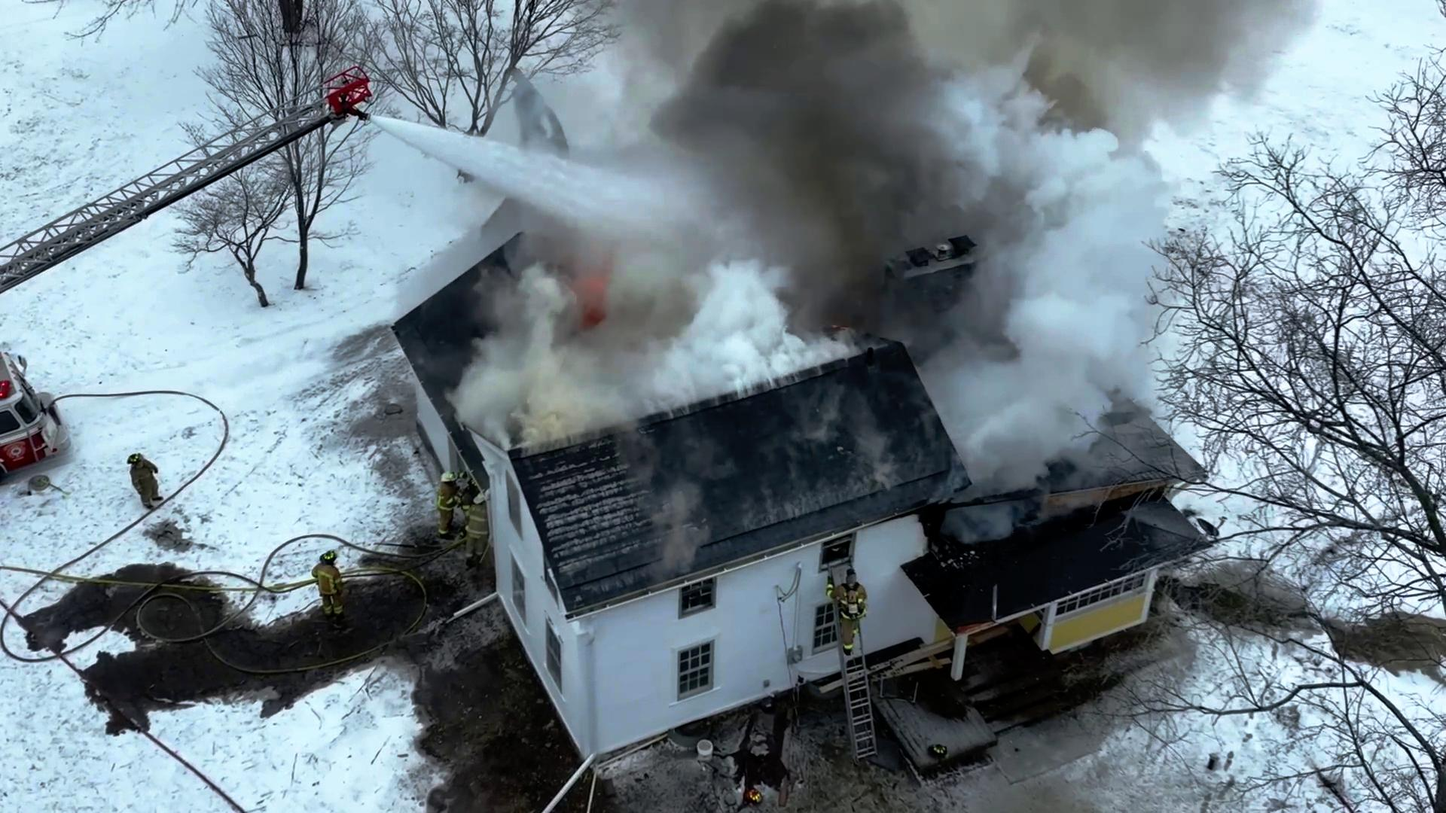smoke: (720, 2, 966, 208)
